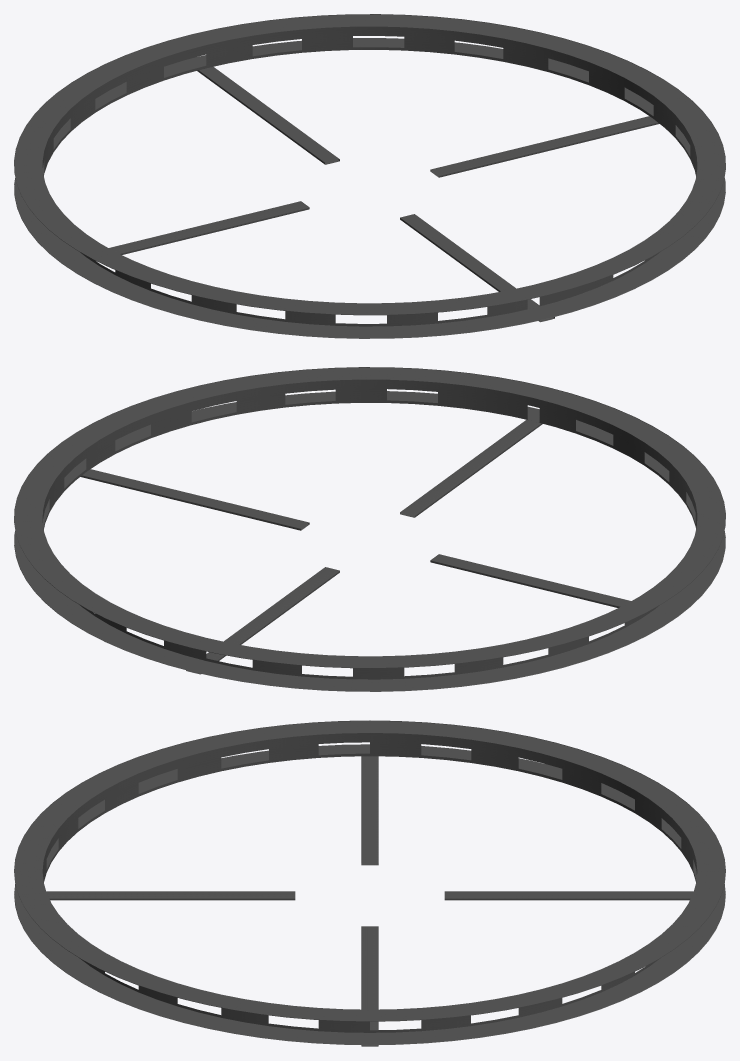
Rendered from stage_1F_tilling_road.fbx.
The picture shows the model from 3 angles, top to bottom: view 1: azimuth 30°, elevation 25°; view 2: azimuth 150°, elevation 25°; view 3: azimuth 270°, elevation 25°; orthographic projection.
Parts seen in each view (by area): view 1: polySurface40; view 2: polySurface40; view 3: polySurface40.
Part boxes in pixels (x1,y1,x2,y2): polySurface40: (14, 14, 725, 338); polySurface40: (14, 367, 725, 691); polySurface40: (14, 720, 725, 1046).
Size of the model in its own units: 13044 by 525 by 13044.
1 material, 1 textured.
